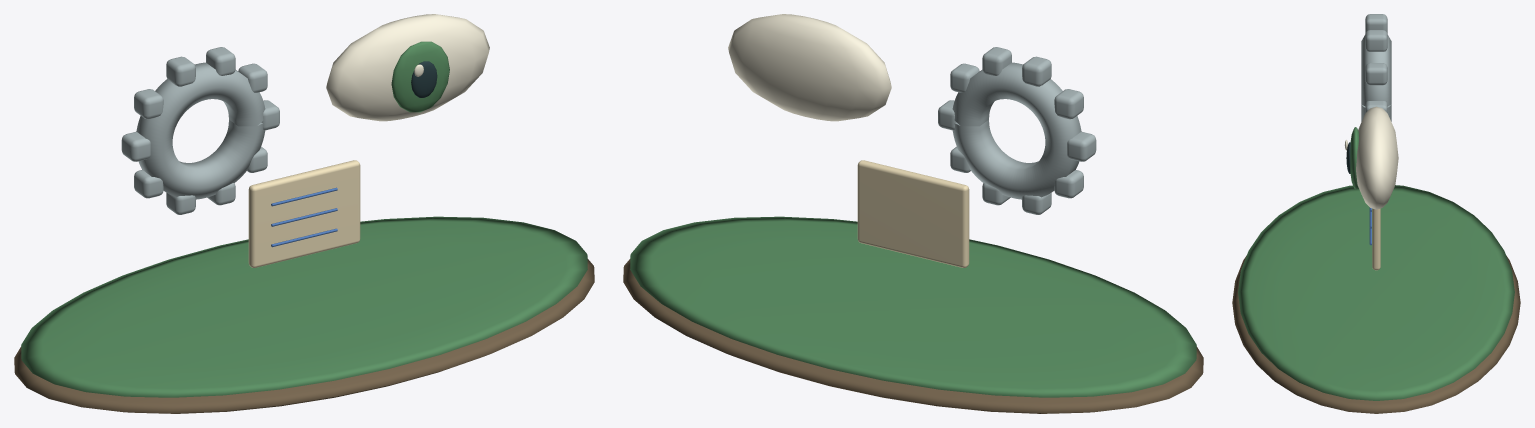
Rendered from complete-second-adjusted-check.glb.
3 renders of one model, left to right at view 1: azimuth 30°, elevation 25°; view 2: azimuth 150°, elevation 25°; view 3: azimuth 270°, elevation 25°, orthographic. The views are drawn at different scales.
Visible parts, largest first — view 1: complete-second-adjusted-check_surface_01, complete-second-adjusted-check_surface_02, complete-second-adjusted-check_surface_00, complete-second-adjusted-check_surface_03, complete-second-adjusted-check_surface_05, complete-second-adjusted-check_surface_06, complete-second-adjusted-check_surface_04; view 2: complete-second-adjusted-check_surface_01, complete-second-adjusted-check_surface_02, complete-second-adjusted-check_surface_03, complete-second-adjusted-check_surface_00, complete-second-adjusted-check_surface_05; view 3: complete-second-adjusted-check_surface_01, complete-second-adjusted-check_surface_00, complete-second-adjusted-check_surface_03, complete-second-adjusted-check_surface_02, complete-second-adjusted-check_surface_05.
Boxes of the visible parts, x1=… form: complete-second-adjusted-check_surface_01: x1=21, y1=41, x2=587, y2=397; complete-second-adjusted-check_surface_02: x1=121, y1=47, x2=279, y2=214; complete-second-adjusted-check_surface_00: x1=14, y1=259, x2=594, y2=413; complete-second-adjusted-check_surface_03: x1=326, y1=14, x2=489, y2=121; complete-second-adjusted-check_surface_05: x1=248, y1=160, x2=360, y2=267; complete-second-adjusted-check_surface_06: x1=271, y1=187, x2=337, y2=247; complete-second-adjusted-check_surface_04: x1=411, y1=61, x2=437, y2=97; complete-second-adjusted-check_surface_01: x1=630, y1=216, x2=1196, y2=397; complete-second-adjusted-check_surface_02: x1=938, y1=47, x2=1096, y2=214; complete-second-adjusted-check_surface_03: x1=728, y1=14, x2=891, y2=121; complete-second-adjusted-check_surface_00: x1=623, y1=259, x2=1203, y2=413; complete-second-adjusted-check_surface_05: x1=857, y1=160, x2=969, y2=267; complete-second-adjusted-check_surface_01: x1=1238, y1=127, x2=1514, y2=400; complete-second-adjusted-check_surface_00: x1=1232, y1=255, x2=1520, y2=413; complete-second-adjusted-check_surface_03: x1=1344, y1=106, x2=1398, y2=209; complete-second-adjusted-check_surface_02: x1=1361, y1=14, x2=1391, y2=121; complete-second-adjusted-check_surface_05: x1=1372, y1=208, x2=1380, y2=270.
Bounding box in the file's own units: 4.56 × 2.4 × 2.5.
